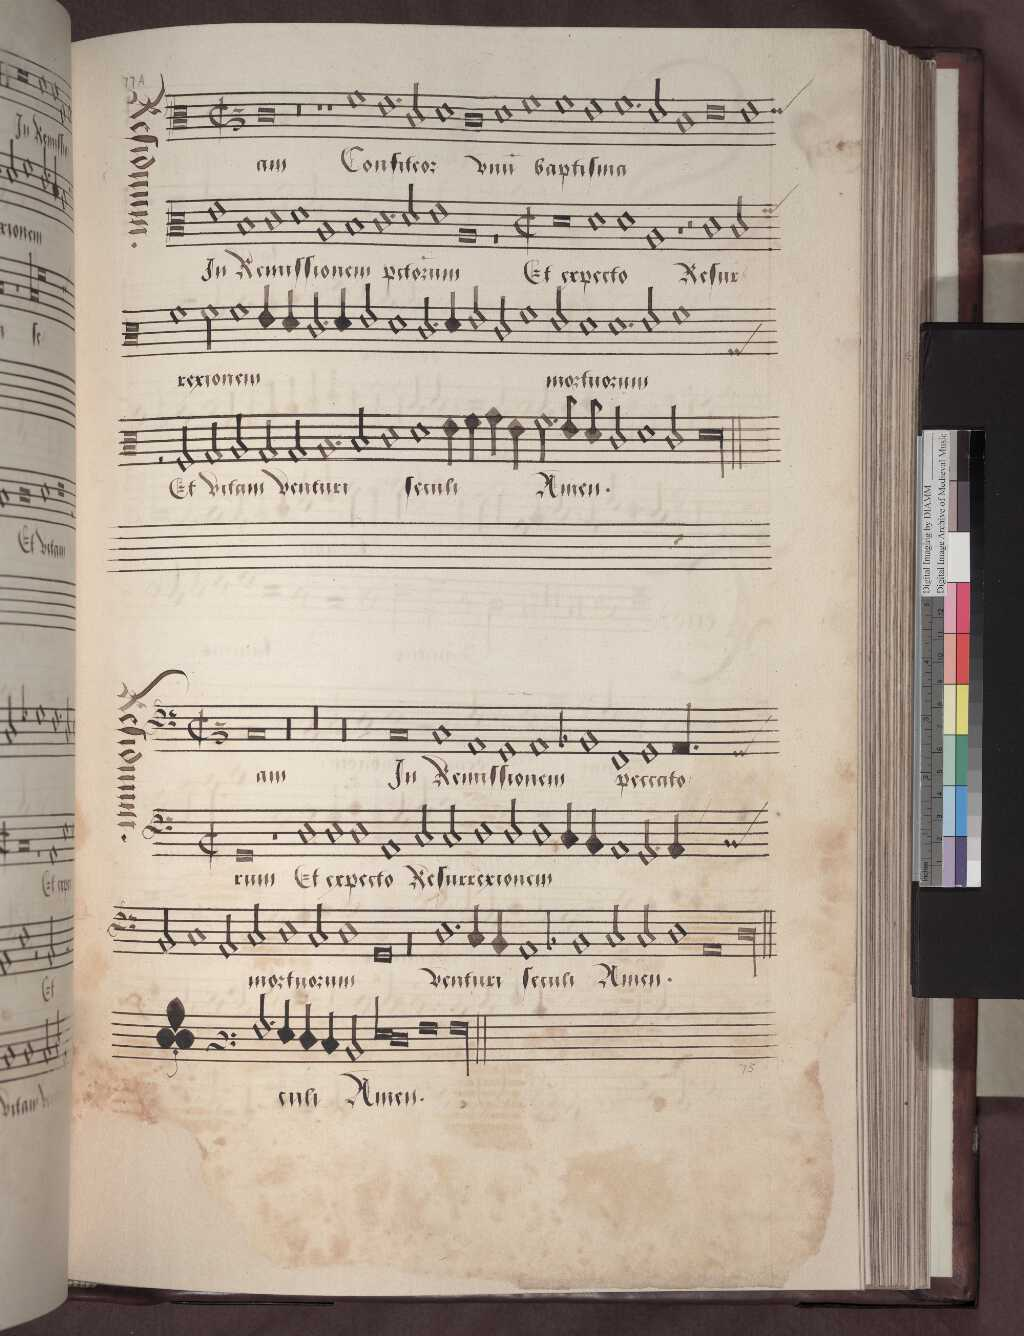3: (205, 719, 232, 752)
Imincut: (180, 695, 217, 757)
breve_8: (241, 717, 272, 750), (382, 717, 413, 750)
colored longa_10: (669, 700, 693, 762)
custos_11: (730, 735, 755, 766)
f clef_5: (145, 690, 183, 740)
flat_9: (550, 698, 574, 761)
longa rest: (305, 688, 325, 761), (335, 697, 354, 764), (279, 700, 298, 759)
point: (687, 736, 713, 758)
semibreve_10: (463, 723, 490, 765), (527, 726, 552, 764)
semibreve_11: (636, 733, 662, 770), (494, 730, 516, 765)
semibreve_12: (606, 741, 632, 777)
semibreve_8: (427, 712, 455, 755)
semibreve_9: (575, 717, 603, 761)
